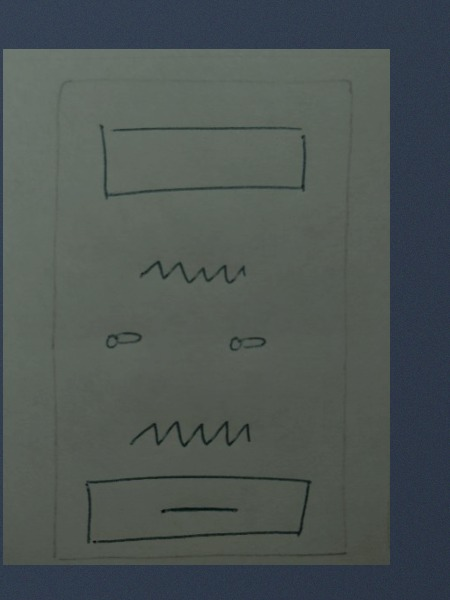button: (74, 471, 320, 545)
switch: (92, 319, 155, 358), (217, 323, 287, 358)
text: (115, 410, 266, 452), (128, 250, 256, 289)
text_input: (88, 114, 327, 205)
